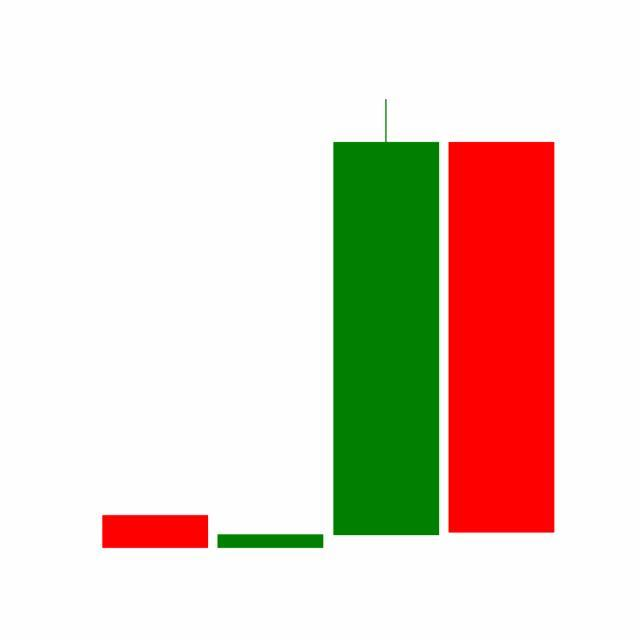Marubozu: (444, 139, 560, 538)
